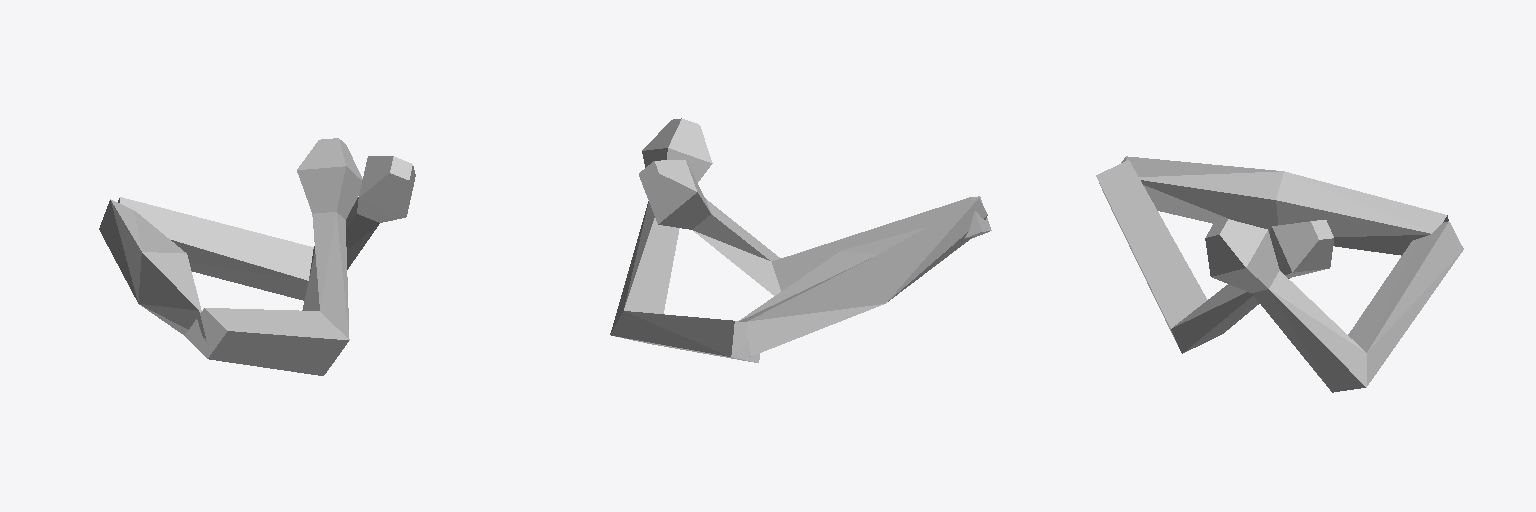
Rendered from handsBlock_000059.obj.
3 views of the same model, side by side, from view 1: azimuth 30°, elevation 25°; view 2: azimuth 150°, elevation 25°; view 3: azimuth 270°, elevation 25° (orthographic).
Visible parts, largest first — view 1: Cube; view 2: Cube; view 3: Cube.
Part boxes in pixels (bbox=[...]): Cube: bbox=[99, 138, 415, 375]; Cube: bbox=[610, 118, 991, 362]; Cube: bbox=[1096, 156, 1463, 392].
Bounding box in the file's own units: 4.6 × 2.81 × 5.13.